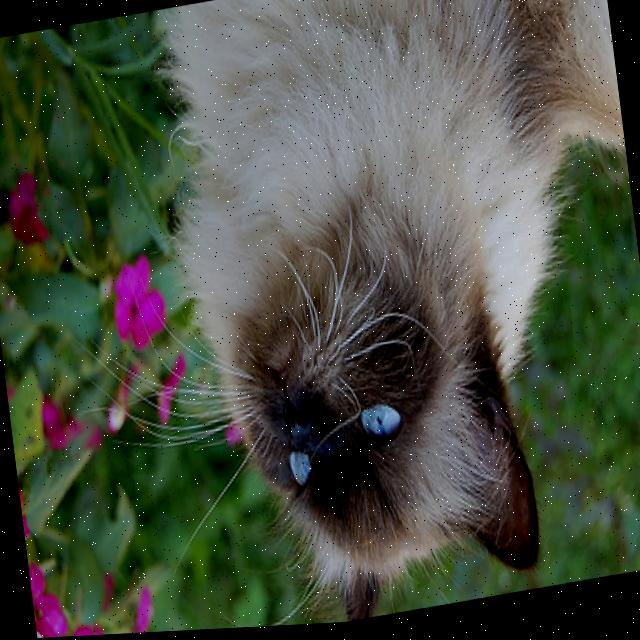Birman: (144, 0, 640, 634)
